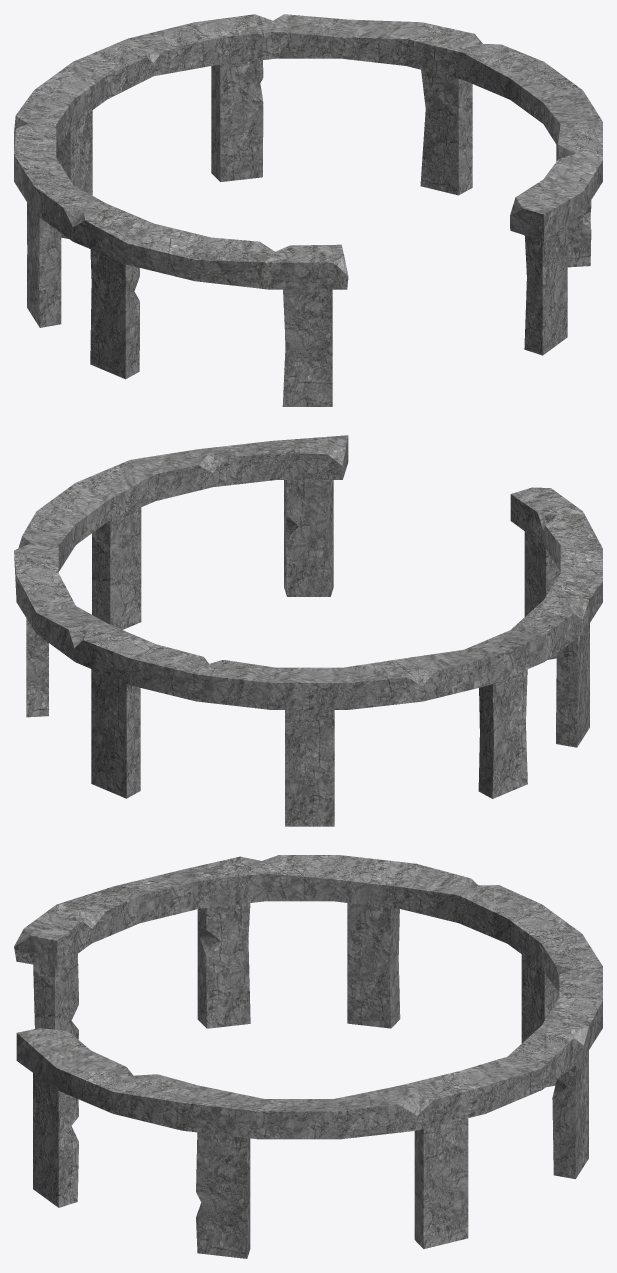
Rendered from materials_3_handrail_0.fbx.
3 views of the same model, one above another, from view 1: azimuth 30°, elevation 25°; view 2: azimuth 150°, elevation 25°; view 3: azimuth 270°, elevation 25° (orthographic). The views are drawn at different scales.
Parts seen in each view (by area): view 1: materials_3_handrail_0; view 2: materials_3_handrail_0; view 3: materials_3_handrail_0.
Boxes of the visible parts, x1,y1,x2,y2 form: materials_3_handrail_0: (14, 14, 602, 406); materials_3_handrail_0: (14, 435, 602, 826); materials_3_handrail_0: (14, 855, 602, 1258).
Size of the model in its own units: 538 by 150 by 522.
